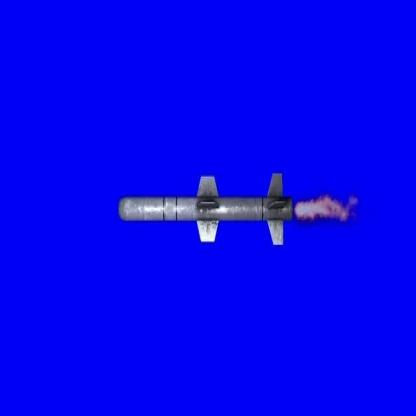MIL_TBM: (111, 192, 294, 224)
